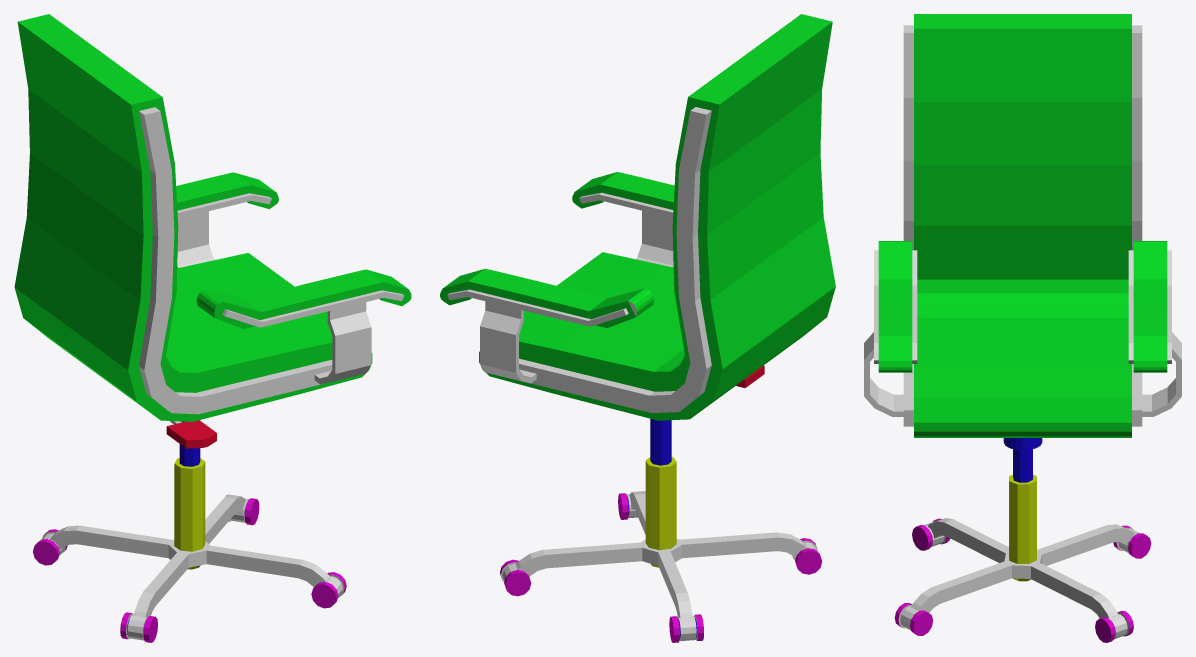
Rendered from PRPT_RKJ_kursiKantor.fbx.
3 renders of one model, left to right at view 1: azimuth 30°, elevation 25°; view 2: azimuth 150°, elevation 25°; view 3: azimuth 270°, elevation 25°, orthographic. The views are drawn at different scales.
Parts seen in each view (by area): view 1: kursiKantor; view 2: kursiKantor; view 3: kursiKantor.
Part boxes in pixels (<box>): kursiKantor: <box>14,14,411,642</box>; kursiKantor: <box>440,14,835,642</box>; kursiKantor: <box>864,14,1181,642</box>.
Bounding box in the file's own units: 246 × 484 × 266.
